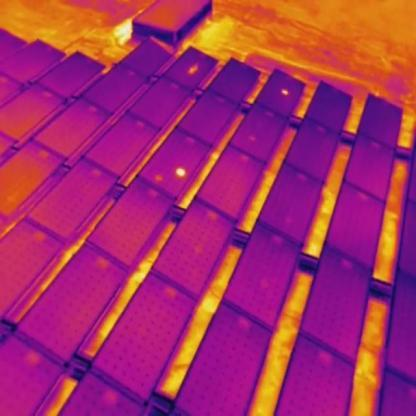anomaly: (172, 166, 188, 178), (186, 63, 200, 75), (279, 87, 291, 98)
